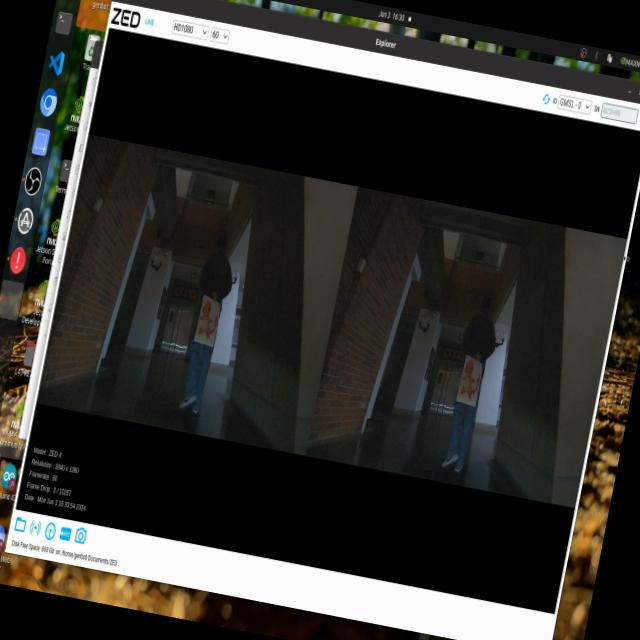red: (194, 298, 225, 352), (454, 358, 486, 408)
